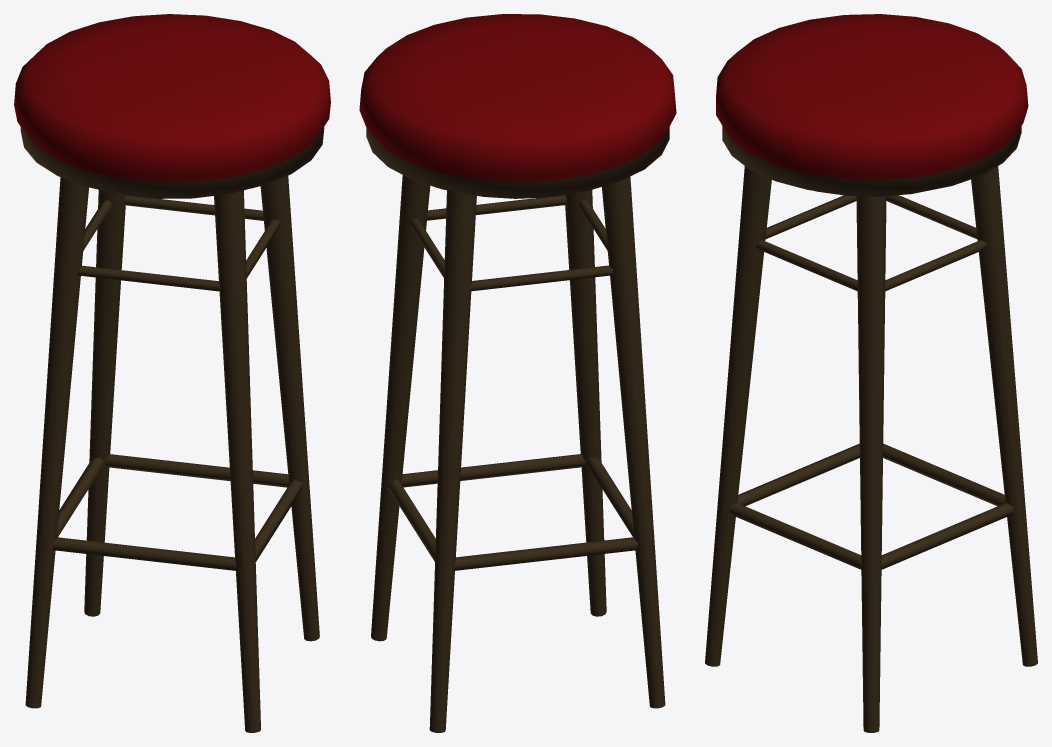
File: Hocker.fbx
3 renders of one model, left to right at view 1: azimuth 30°, elevation 25°; view 2: azimuth 150°, elevation 25°; view 3: azimuth 270°, elevation 25°, orthographic.
Parts seen in each view (by area): view 1: bar_chair_ver2_lp; view 2: bar_chair_ver2_lp; view 3: bar_chair_ver2_lp.
Boxes of the visible parts, bbox=[...] form: bar_chair_ver2_lp: bbox=[14, 14, 330, 732]; bar_chair_ver2_lp: bbox=[359, 14, 676, 732]; bar_chair_ver2_lp: bbox=[705, 14, 1037, 732].
Bounding box in the file's own units: 50.96 × 101 × 50.96.
